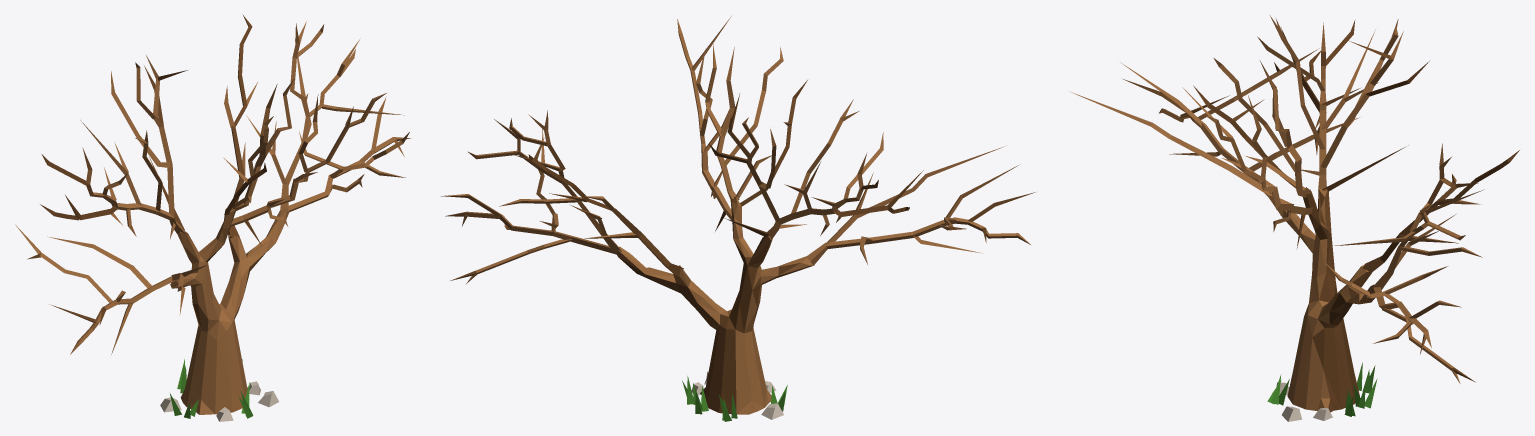
The model's file is jacaranda_var_bare.glb.
3 renders of one model, left to right at view 1: azimuth 30°, elevation 25°; view 2: azimuth 150°, elevation 25°; view 3: azimuth 270°, elevation 25°, orthographic. The views are drawn at different scales.
Visible parts, largest first — view 1: jacaranda_var_bare; view 2: jacaranda_var_bare; view 3: jacaranda_var_bare.
Part boxes in pixels (x1,y1,x2,y2): jacaranda_var_bare: [15, 14, 411, 421]; jacaranda_var_bare: [441, 16, 1035, 421]; jacaranda_var_bare: [1069, 15, 1519, 421].
Bounding box in the file's own units: 8.66 × 5.88 × 6.79.
